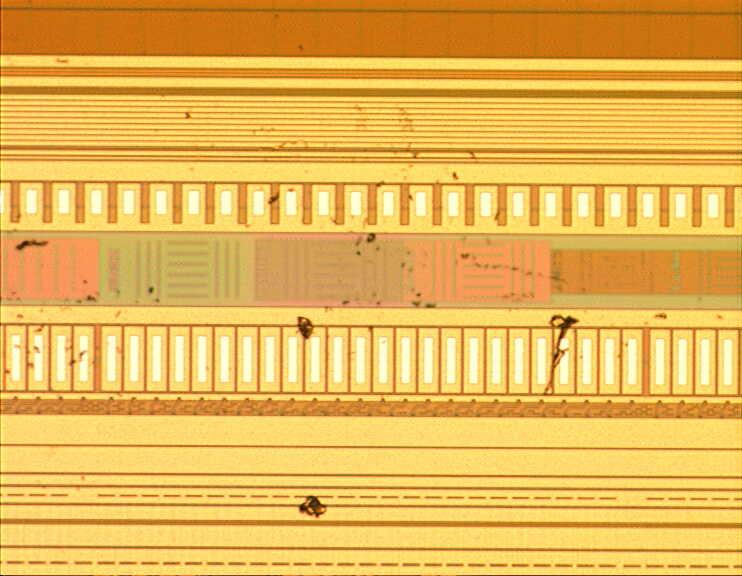PO CONTAMINATION: (2, 39, 670, 397)
